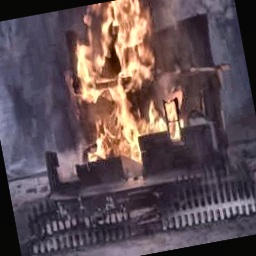fire: (39, 0, 204, 182)
